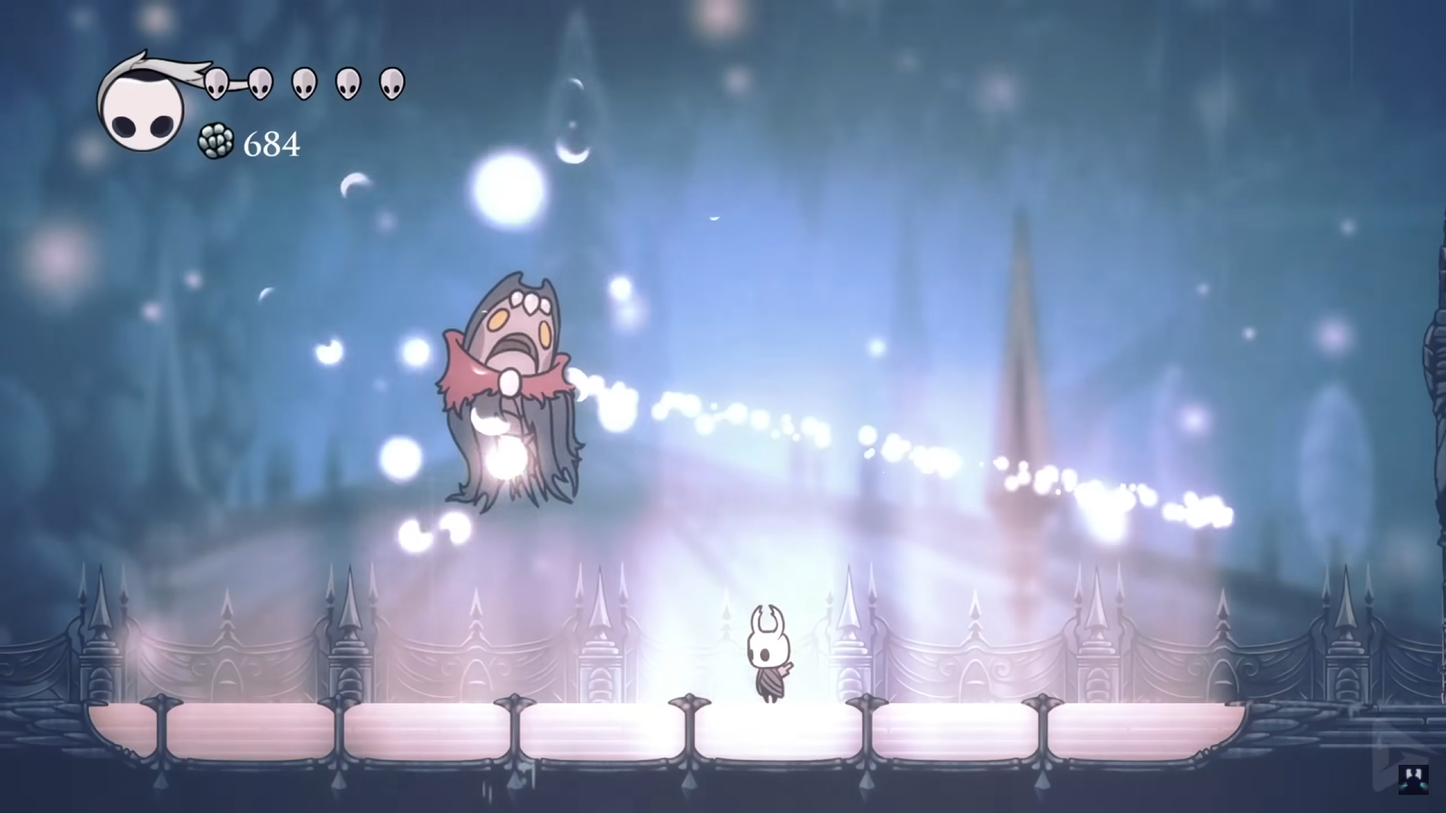HK: (740, 598, 797, 709)
